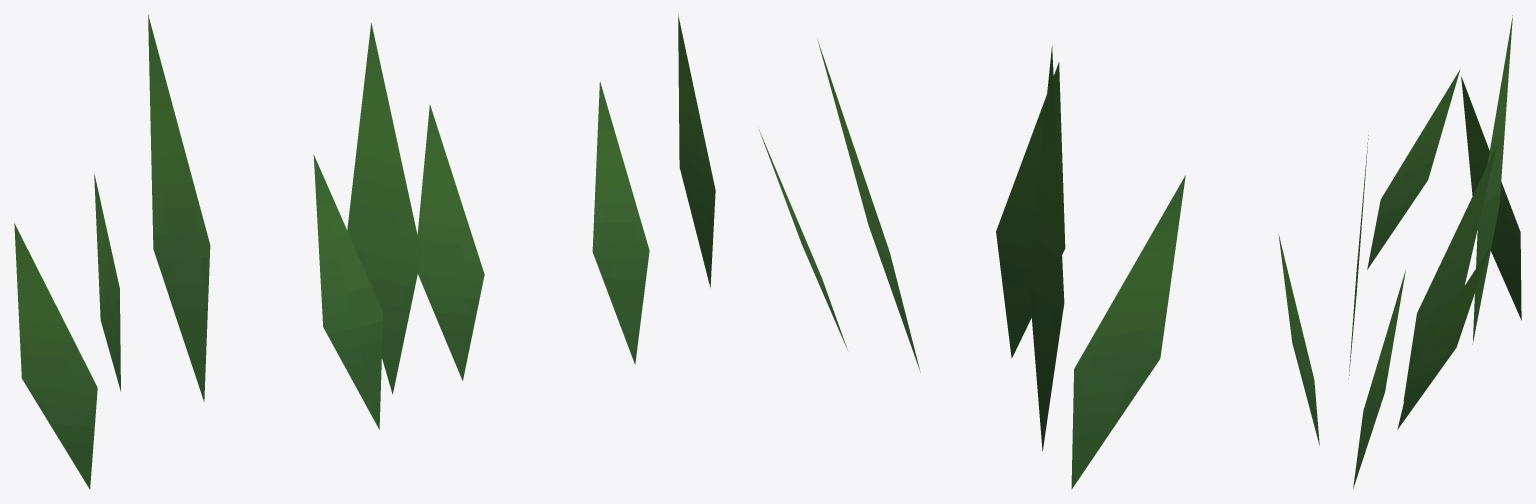
Rendered from plants_me_dlc2_main_grass502.gltf.
3 renders of one model, left to right at view 1: azimuth 30°, elevation 25°; view 2: azimuth 150°, elevation 25°; view 3: azimuth 270°, elevation 25°, orthographic. The views are drawn at different scales.
Visible parts, largest first — view 1: um_plants_me_dlc2_main_grass502_model_plants_me_dlc2_main_gr; view 2: um_plants_me_dlc2_main_grass502_model_plants_me_dlc2_main_gr; view 3: um_plants_me_dlc2_main_grass502_model_plants_me_dlc2_main_gr.
Boxes of the visible parts, box(x1,y1,x2,y2) form: um_plants_me_dlc2_main_grass502_model_plants_me_dlc2_main_gr: box(14, 14, 649, 489); um_plants_me_dlc2_main_grass502_model_plants_me_dlc2_main_gr: box(678, 14, 1319, 489); um_plants_me_dlc2_main_grass502_model_plants_me_dlc2_main_gr: box(1348, 15, 1521, 488).
Size of the model in its own units: 0.5503 by 0.3383 by 0.1672.
Materials: 1 (1 with a texture image).
